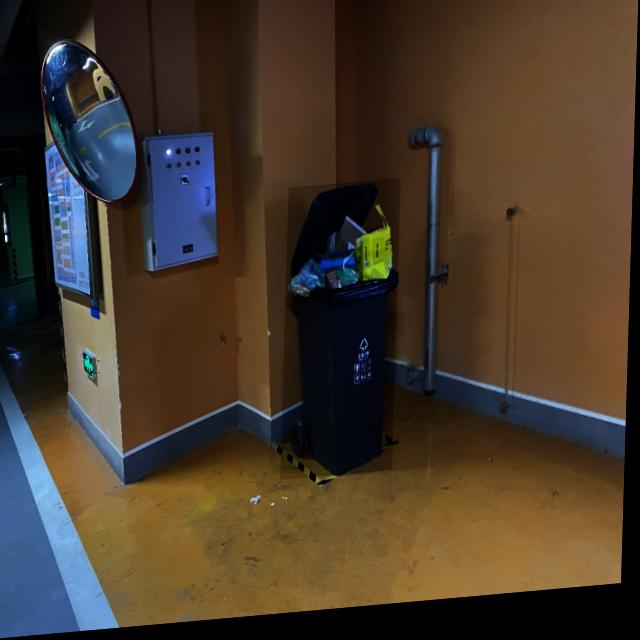overflow: (283, 186, 402, 485)
